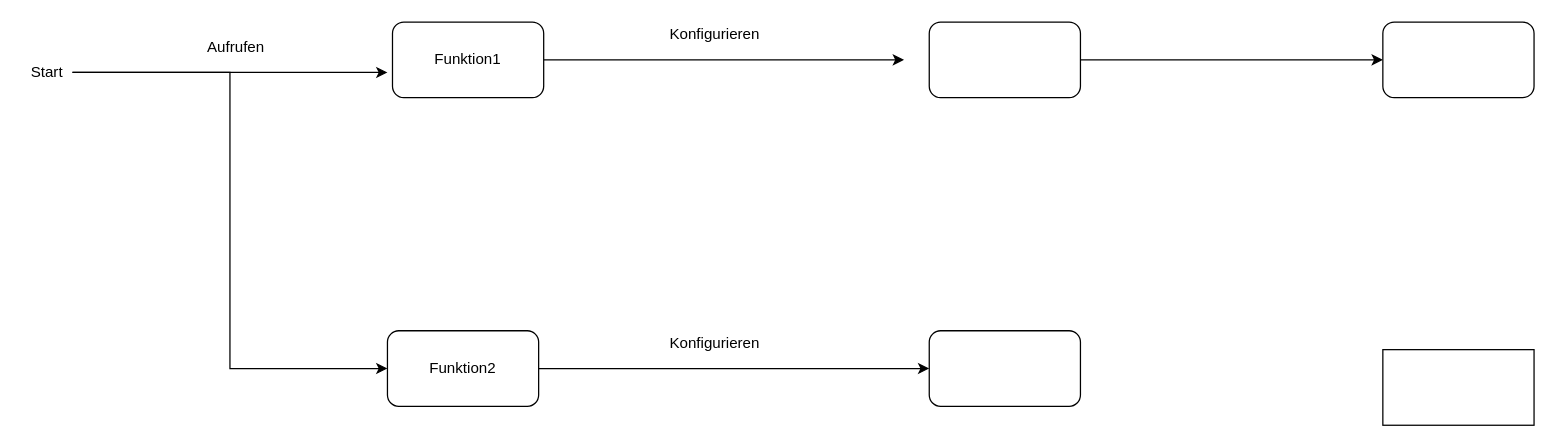
The diagram is 1556 pixels wide and 447 high, and some of its shapes have lost their labels. Here are the shapes that lost their labels. From the top down, the centre of each, then its label:
At point (1004, 59): "F1s".
At point (1004, 367): "F2s".
